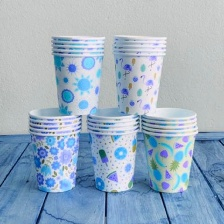paper_cup: (138, 104, 200, 195), (46, 31, 108, 118), (25, 104, 84, 195), (84, 105, 143, 195), (109, 30, 169, 118)
